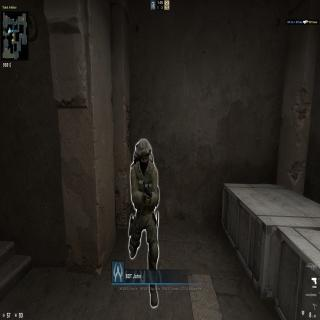CT-Head: (133, 135, 153, 172)
